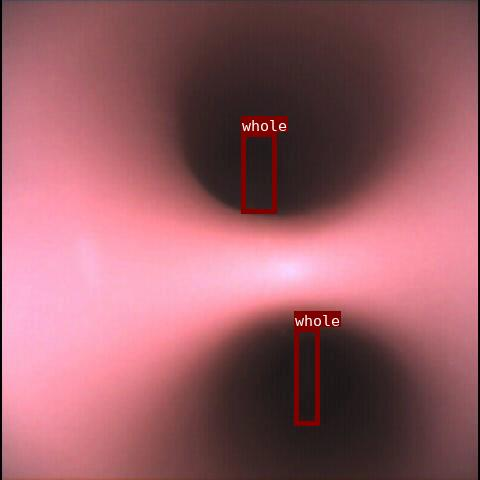whole: (241, 132, 276, 213), (294, 327, 319, 425)
